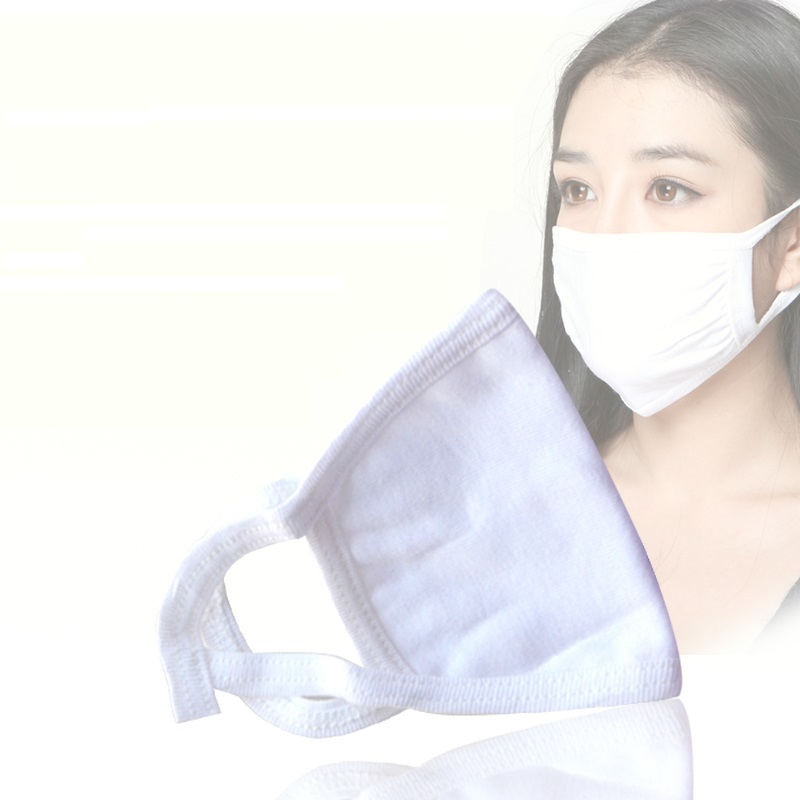face_mask: (551, 69, 771, 373)
